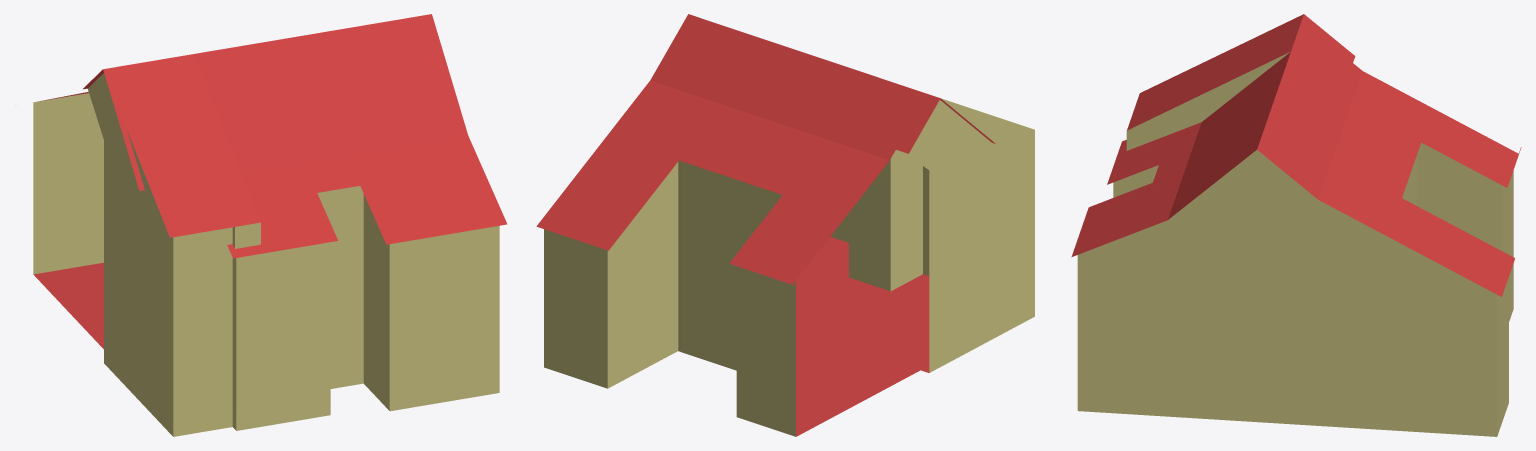
The picture shows the model from 3 angles, left to right: view 1: azimuth 30°, elevation 25°; view 2: azimuth 150°, elevation 25°; view 3: azimuth 270°, elevation 25°; orthographic projection. The views are drawn at different scales.
Bounding box in the file's own units: 17.3 × 20.45 × 13.78.
